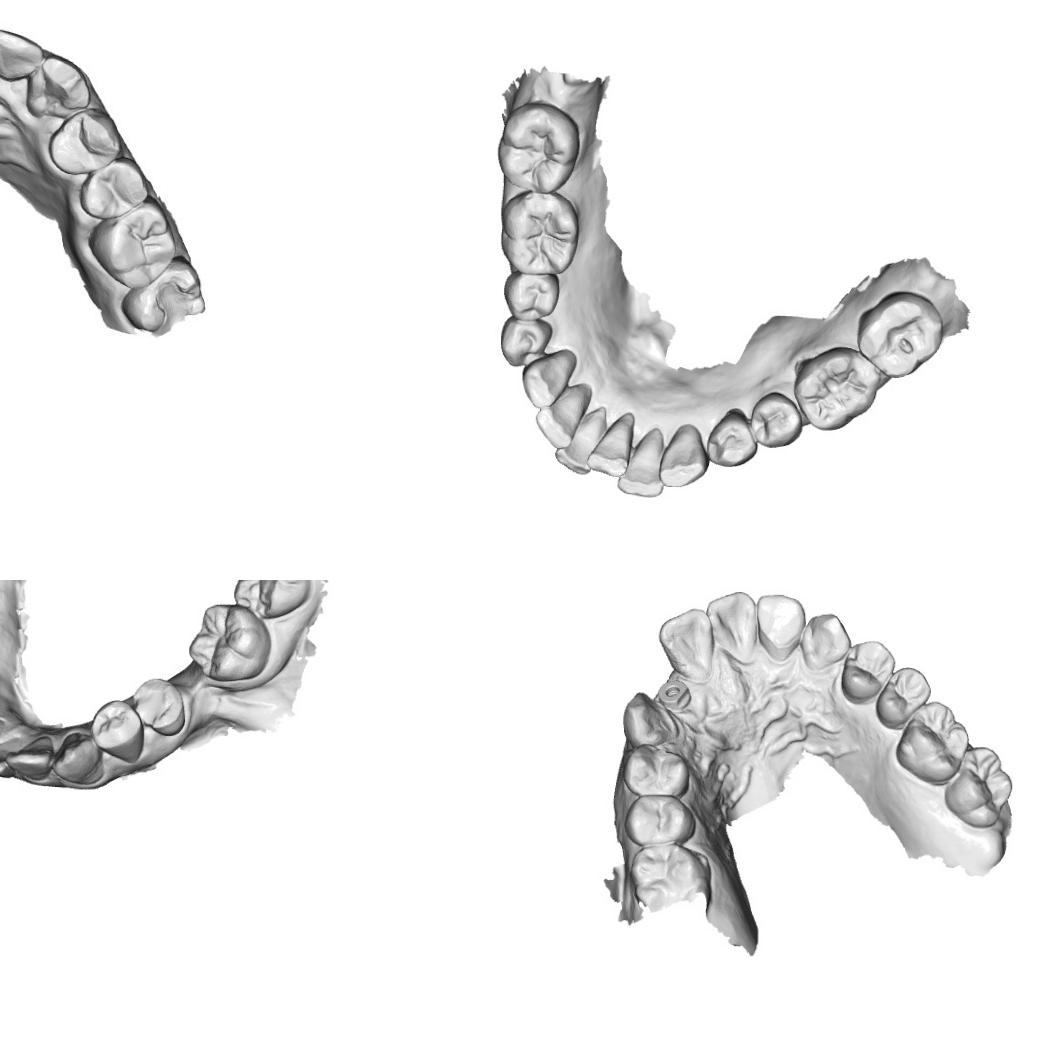canine: (20, 54, 94, 126), (657, 421, 709, 489), (520, 347, 576, 409), (620, 690, 676, 748), (800, 612, 852, 672), (50, 731, 106, 786)
implant: (656, 679, 693, 713)
incisor: (656, 606, 714, 682), (704, 590, 757, 666), (554, 405, 608, 476), (755, 592, 806, 662), (534, 388, 590, 450), (588, 412, 638, 478), (618, 432, 667, 496), (0, 27, 45, 85), (4, 734, 54, 782), (0, 736, 21, 779)
molar: (86, 196, 178, 296), (852, 288, 946, 380), (493, 188, 582, 278), (495, 102, 581, 195), (792, 345, 880, 432), (187, 602, 272, 683), (894, 699, 971, 783), (941, 745, 1014, 830), (630, 842, 711, 910), (232, 580, 312, 620)
premolar: (46, 104, 126, 175), (78, 156, 150, 220), (622, 794, 697, 848), (621, 742, 691, 799), (88, 698, 145, 764), (874, 665, 932, 728), (839, 638, 896, 702), (130, 676, 187, 737), (704, 409, 756, 470), (502, 271, 560, 324), (750, 391, 802, 450), (498, 316, 552, 370)
